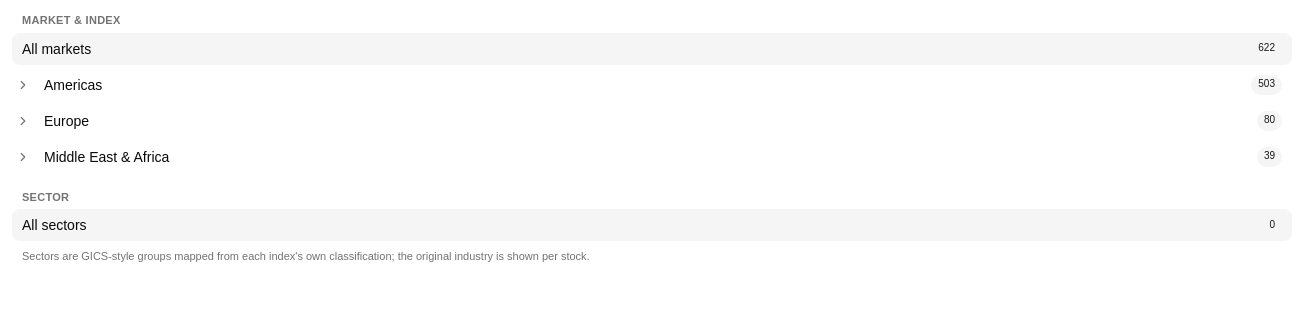
Test: UniverseNav › folds and unfolds a region without changing the filter
What coordinates should you click on to do the following:
click the button named "Show Americas"
I would click on:
 (23, 84)
Its box is [12,74,34,96].
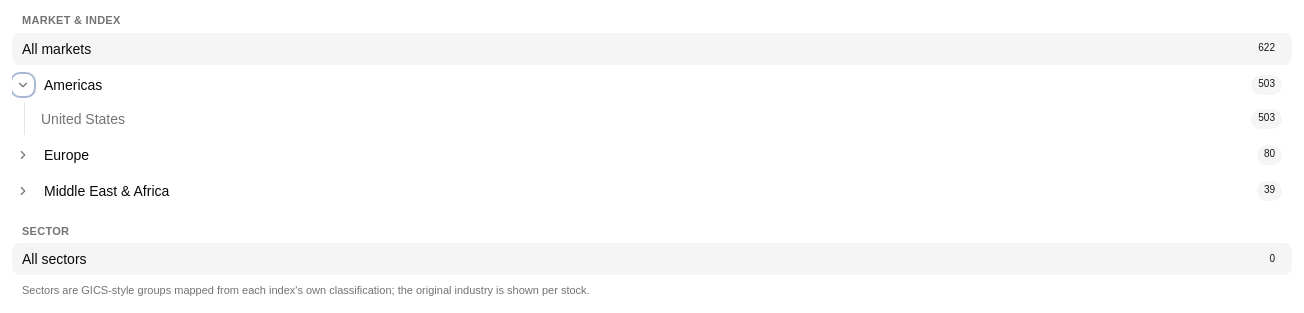
Expected: the button "United States 503" is shown, [31,102,1292,134]
